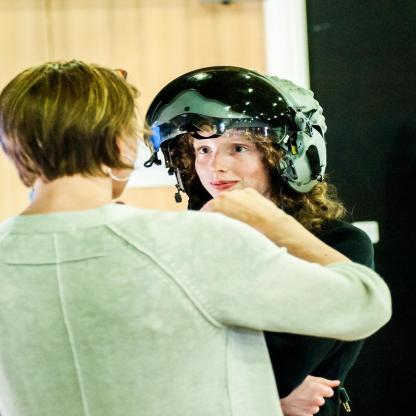Helmet: (141, 74, 325, 216)
